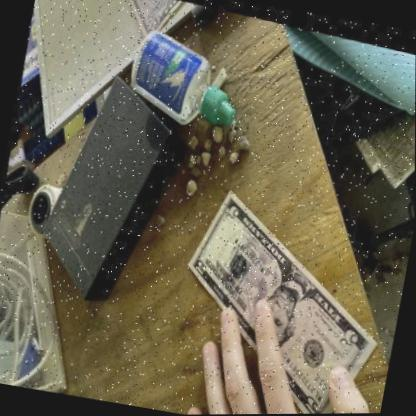five-front: (187, 185, 377, 414)
